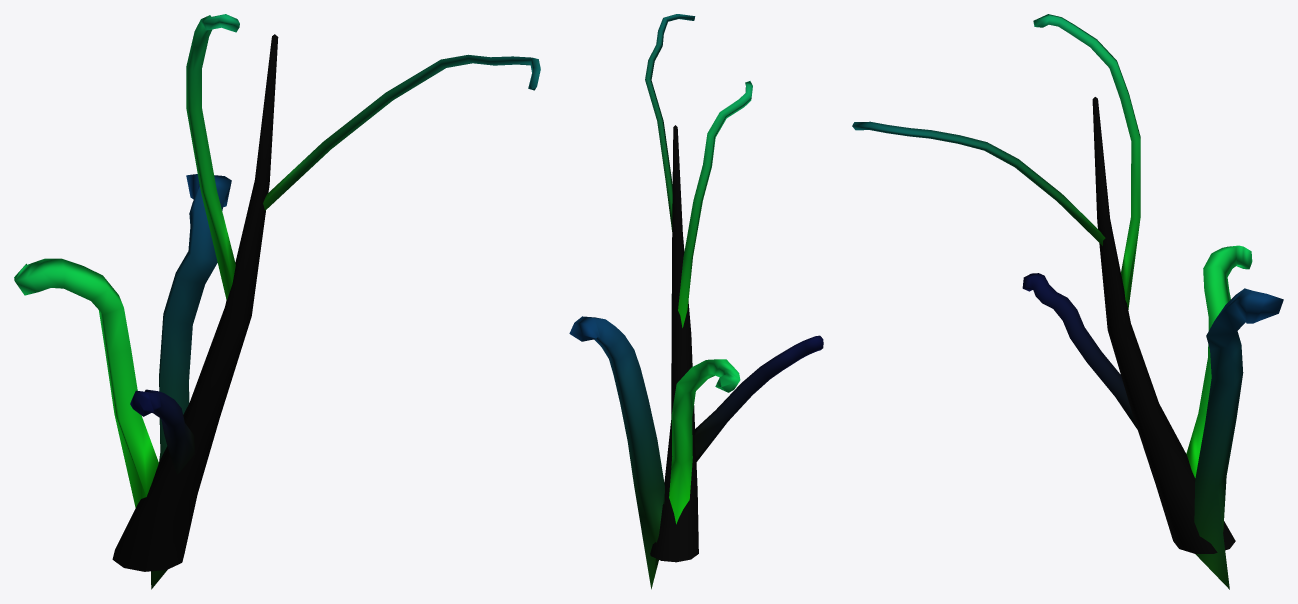
Rendered from DryBranches3.fbx.
The picture shows the model from 3 angles, left to right: view 1: azimuth 30°, elevation 25°; view 2: azimuth 150°, elevation 25°; view 3: azimuth 270°, elevation 25°; orthographic projection. The views are drawn at different scales.
Parts seen in each view (by area): view 1: Tree_0; view 2: Tree_0; view 3: Tree_0.
Boxes of the visible parts, <box> form: Tree_0: <box>14,14,540,589</box>; Tree_0: <box>569,14,823,589</box>; Tree_0: <box>852,14,1283,589</box>.
Bounding box in the file's own units: 34.85 × 69.11 × 48.24.
